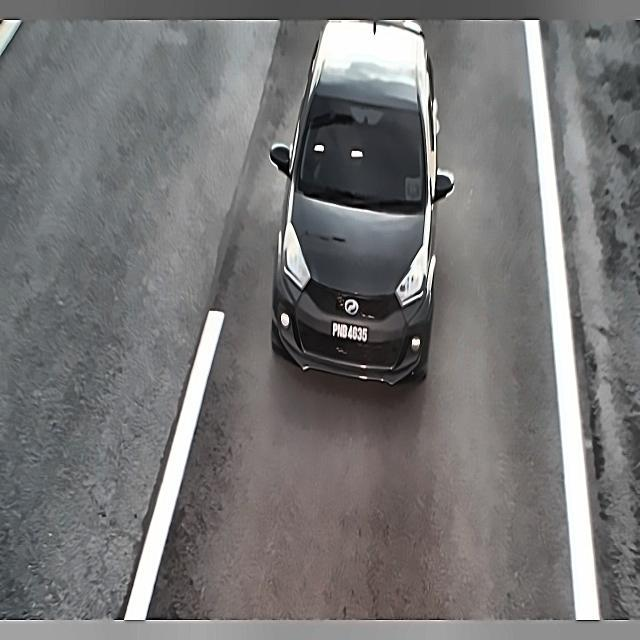car: (328, 312, 372, 353)
